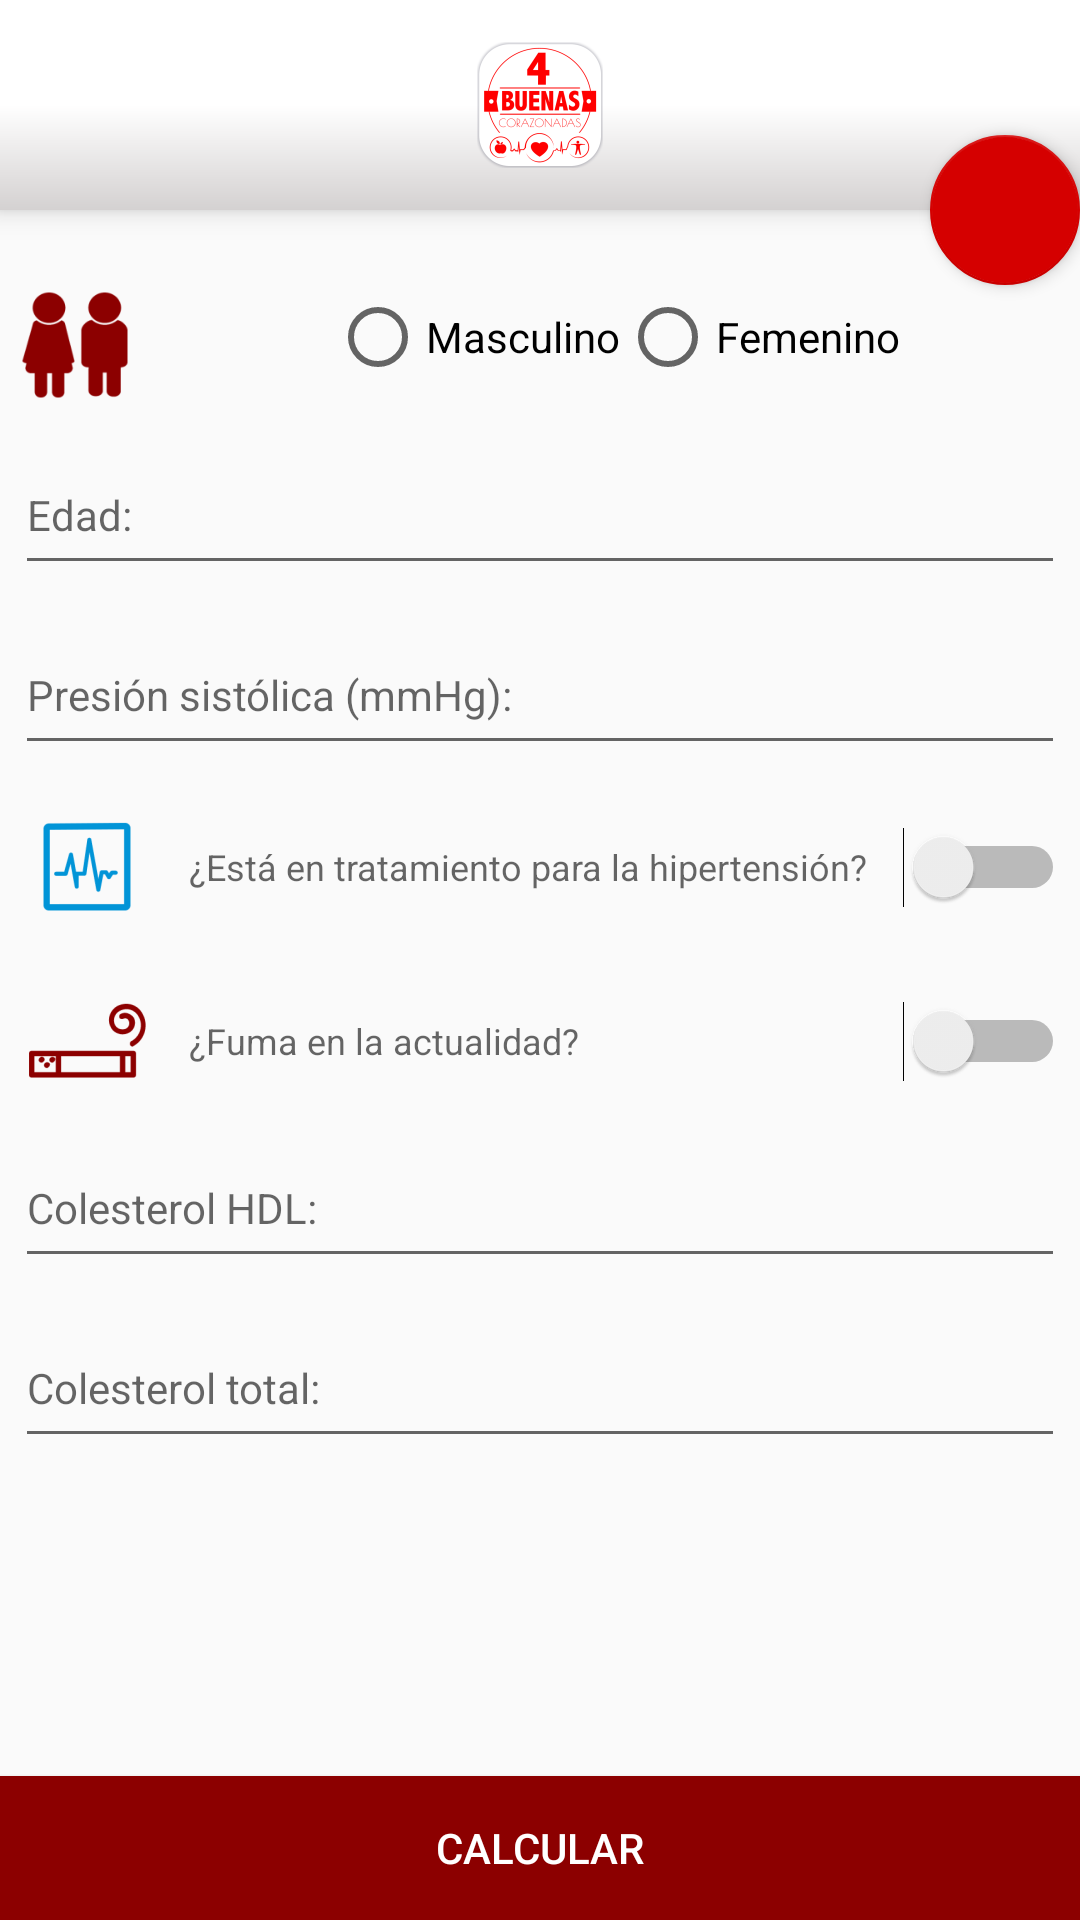

Icon click points for this 1080px x 1920px phone screenshot, format (x=x, y=y):
cigarette: (x=87, y=1040)
heartbeat: (x=87, y=867)
sex: (x=75, y=345)
